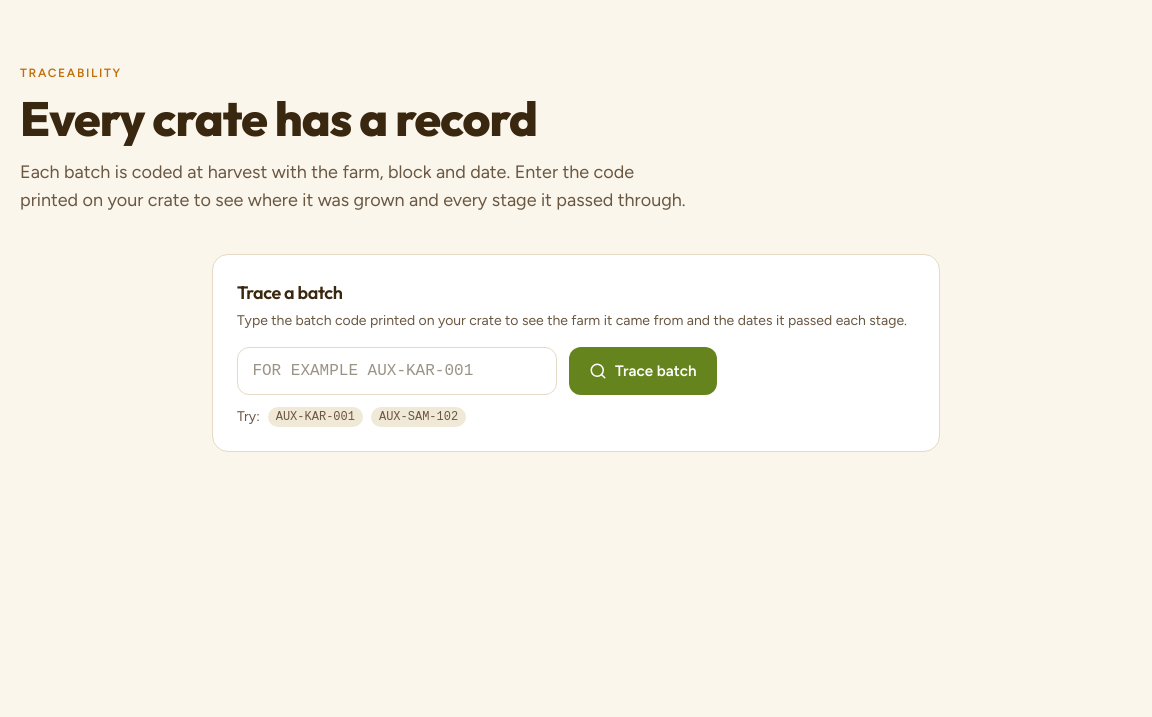
Test: Trace a batch › offers sample codes that run the lookup
Expected: the button "AUX-KAR-001" is shown, [268, 407, 363, 427]
Click the button "AUX-SAM-102" at {"x": 418, "y": 417}, box [371, 407, 466, 427]
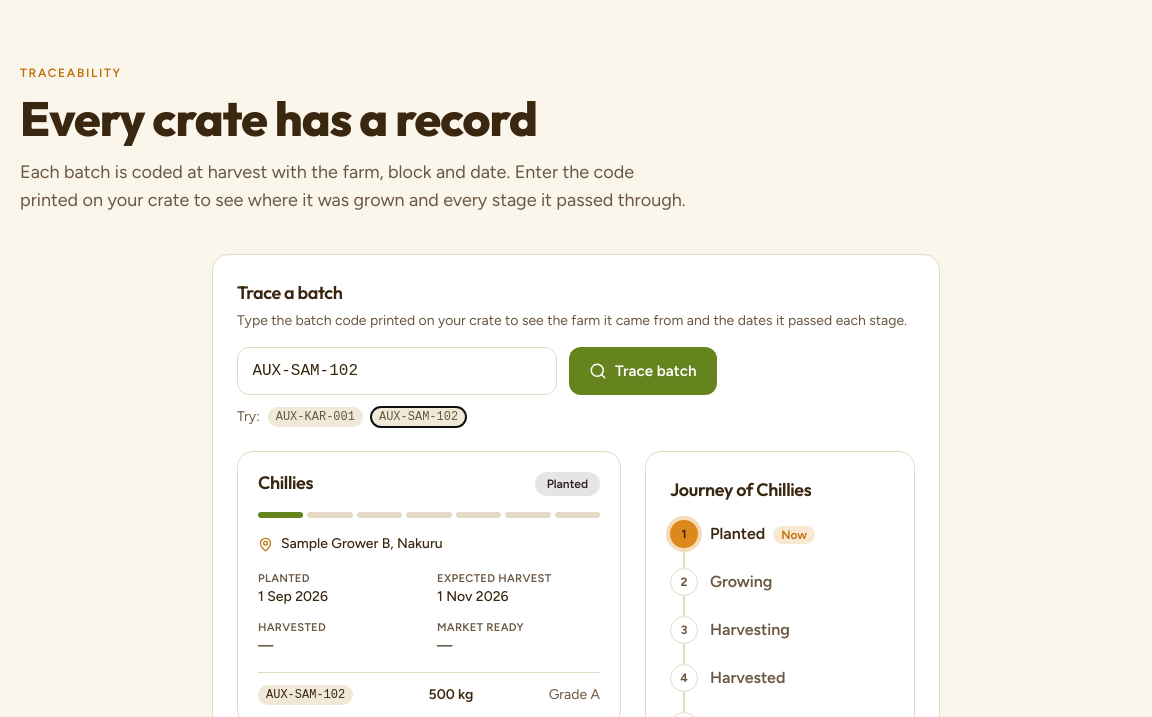
Expected: the heading "Journey of Chillies" is shown, [670, 478, 811, 501]
